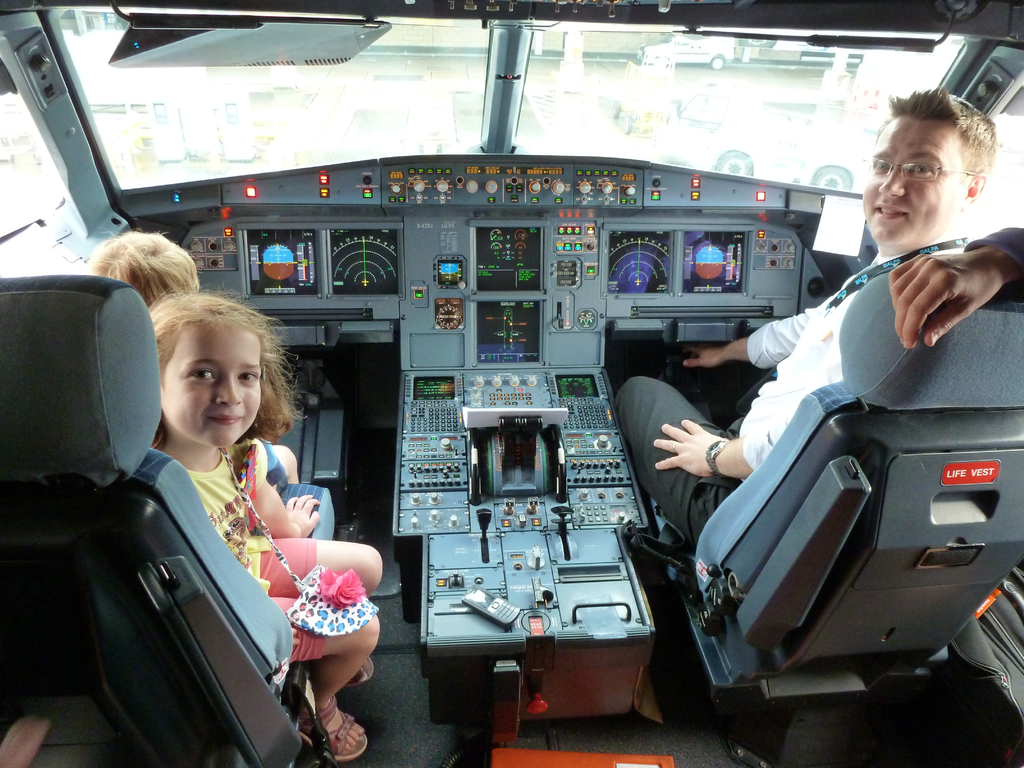Person: (614, 82, 990, 550), (77, 224, 297, 483), (887, 227, 1024, 350)
